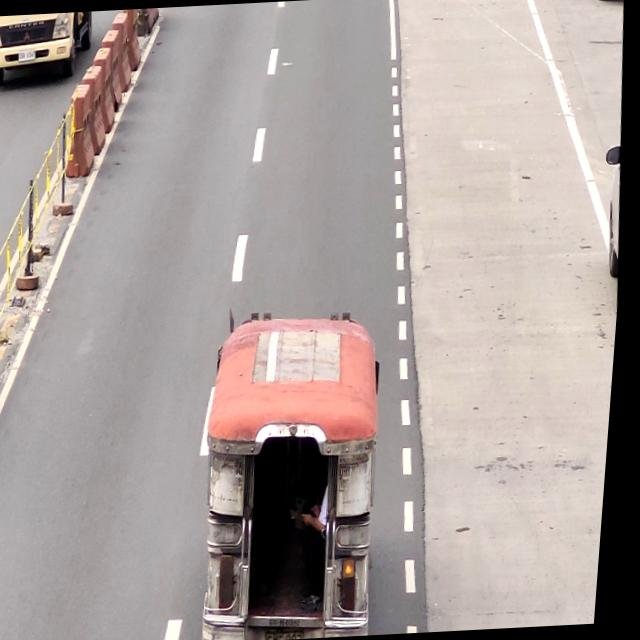Jeep: (200, 315, 397, 640)
